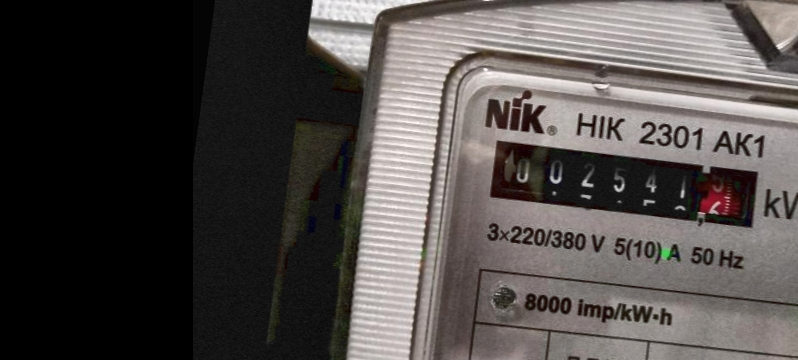0: (545, 152, 568, 187), (514, 153, 534, 184)
1: (672, 166, 692, 200)
2: (575, 155, 601, 191)
4: (641, 162, 662, 195)
5: (609, 161, 629, 195)
6: (705, 194, 724, 217)
screen: (473, 120, 782, 249)
